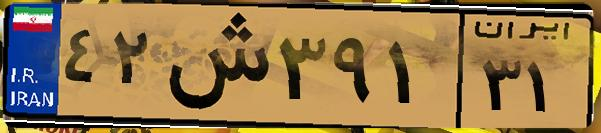1: (385, 28, 445, 110), (525, 38, 570, 115)
2: (110, 28, 158, 98)
3: (270, 28, 330, 110), (475, 38, 525, 113)
4: (57, 26, 110, 100)
9: (330, 28, 385, 110)
ش: (158, 12, 270, 120)
